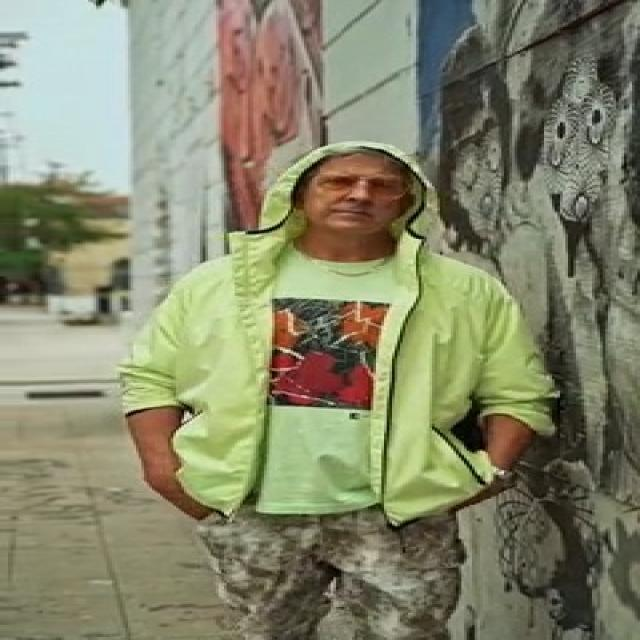Jacket_Wearer: (67, 229, 585, 476)
Person: (105, 131, 600, 640)
